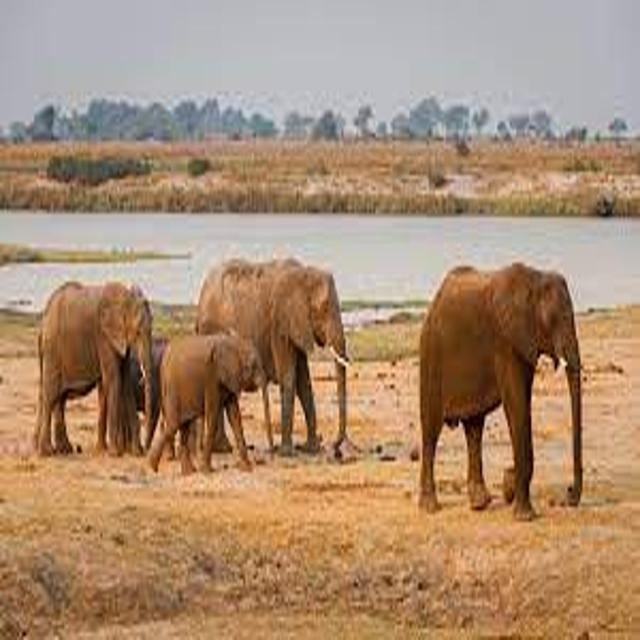Elephant: (392, 246, 614, 524), (178, 224, 376, 443), (152, 332, 300, 480)
